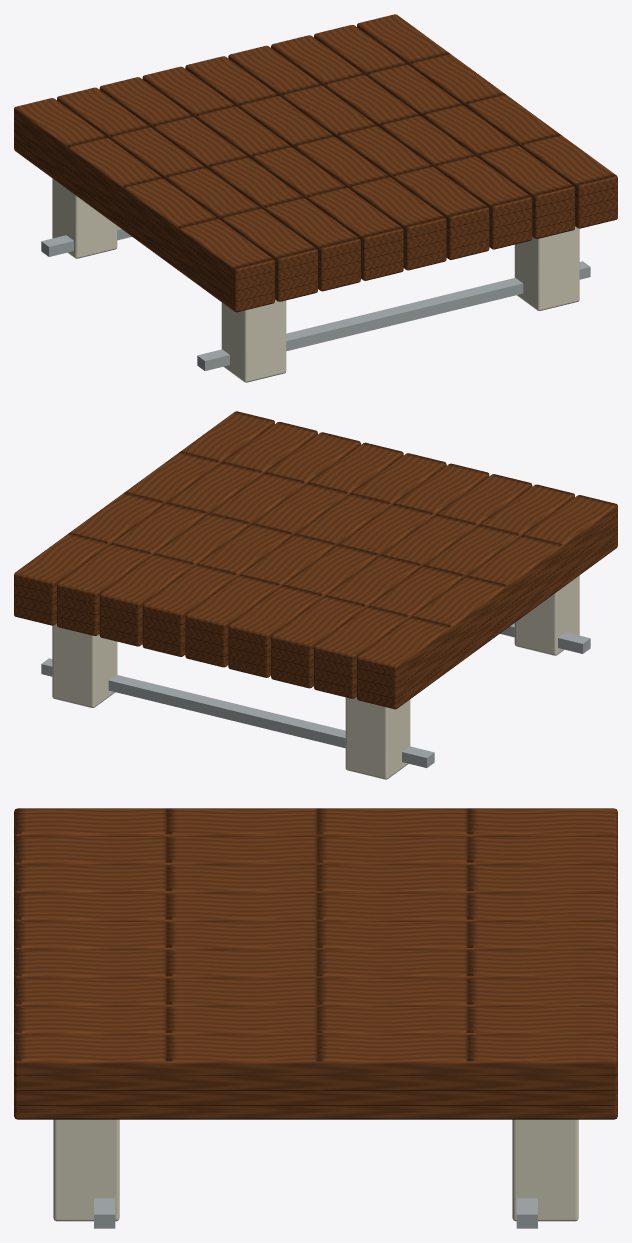
The model's file is modular-survival-base-builder-pier-foundation-reinforc-709c4143__24266.glb.
The picture shows the model from 3 angles, top to bottom: view 1: azimuth 30°, elevation 25°; view 2: azimuth 150°, elevation 25°; view 3: azimuth 270°, elevation 25°; orthographic projection. The views are drawn at different scales.
Parts seen in each view (by area): view 1: pier-foundation-reinforced; view 2: pier-foundation-reinforced; view 3: pier-foundation-reinforced.
Part boxes in pixels (bbox=[...]): pier-foundation-reinforced: bbox=[14, 14, 617, 382]; pier-foundation-reinforced: bbox=[14, 411, 617, 779]; pier-foundation-reinforced: bbox=[14, 808, 617, 1228].
Bounding box in the file's own units: 2 × 0.6499 × 2.
Materials: 3 (1 with a texture image).
